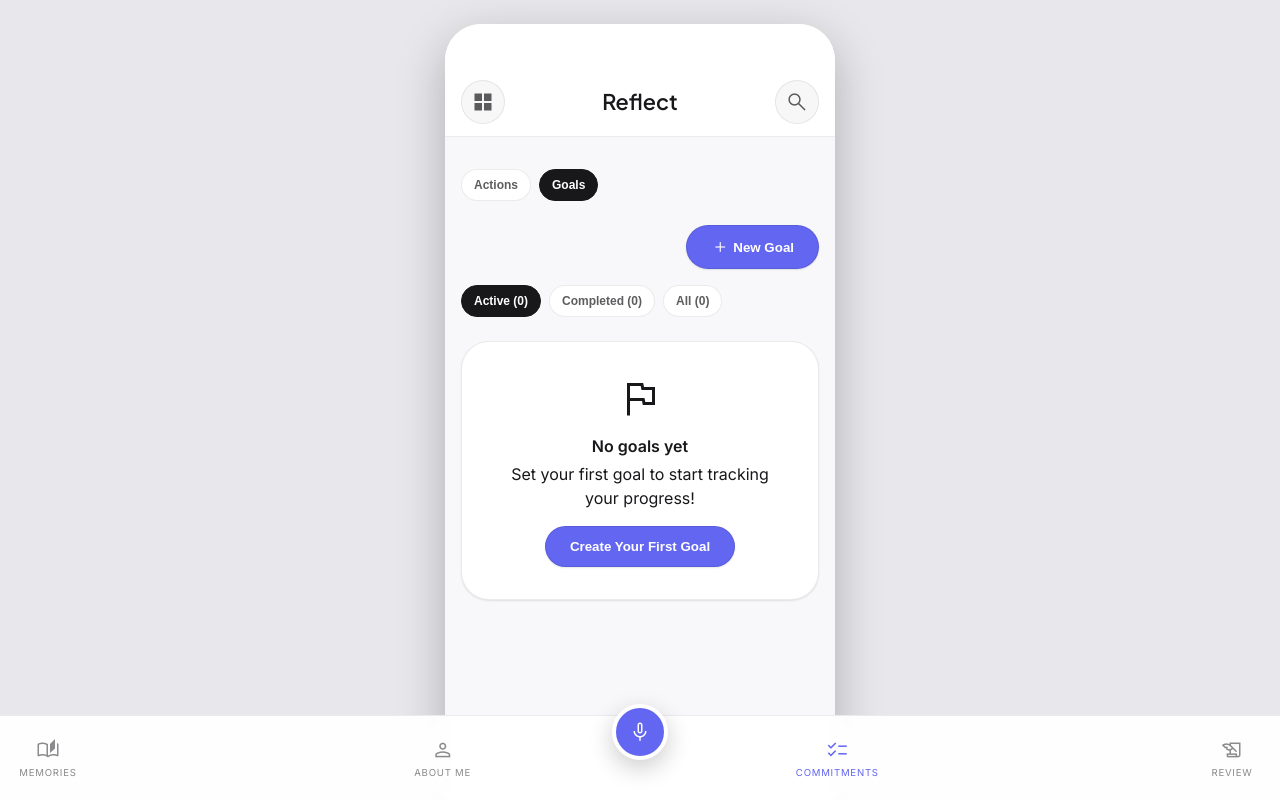
Test: Create Goal Modal › proceeds to milestones step
The width and height of the screenshot is (1280, 800).
Click the button "New Goal" at x=753, y=247, box [686,225,819,269]
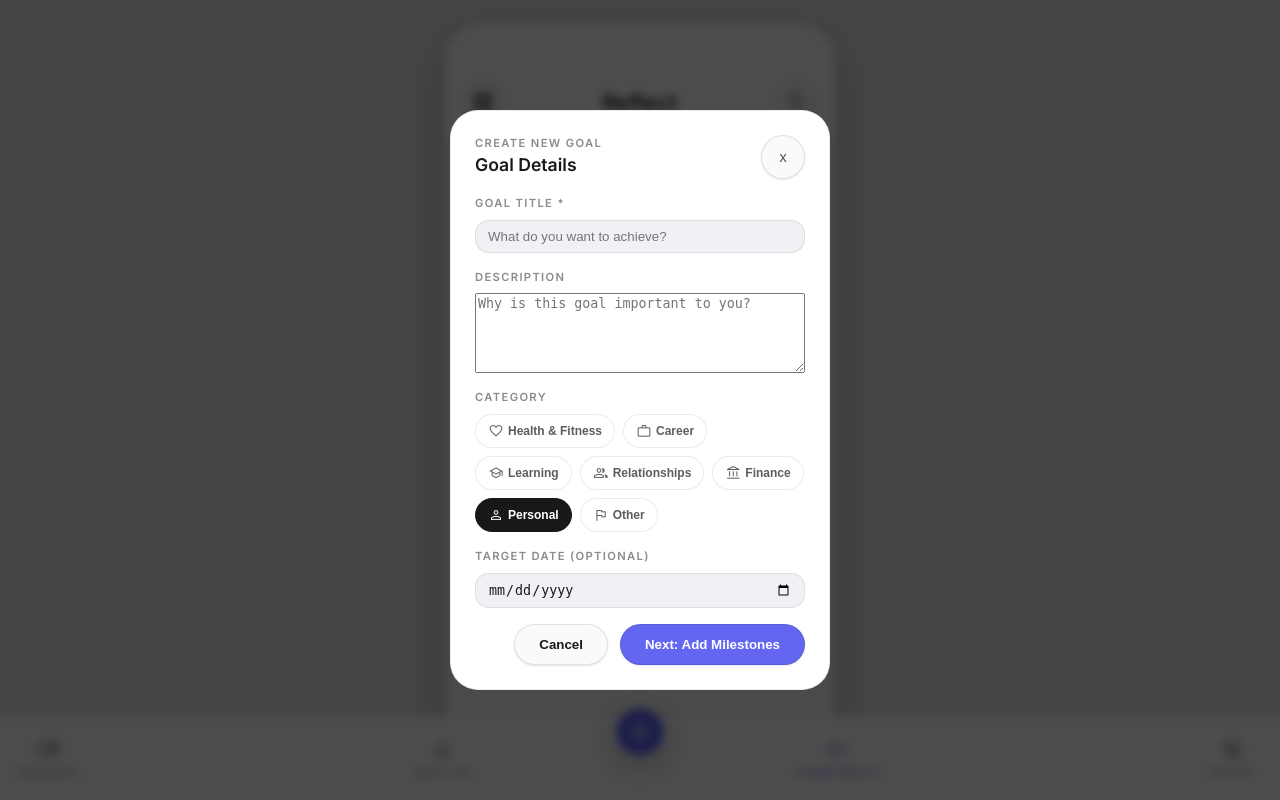
Type "My Goal" into the field labelled "Goal Title *" at x=640, y=236, box [475,220,805,252]
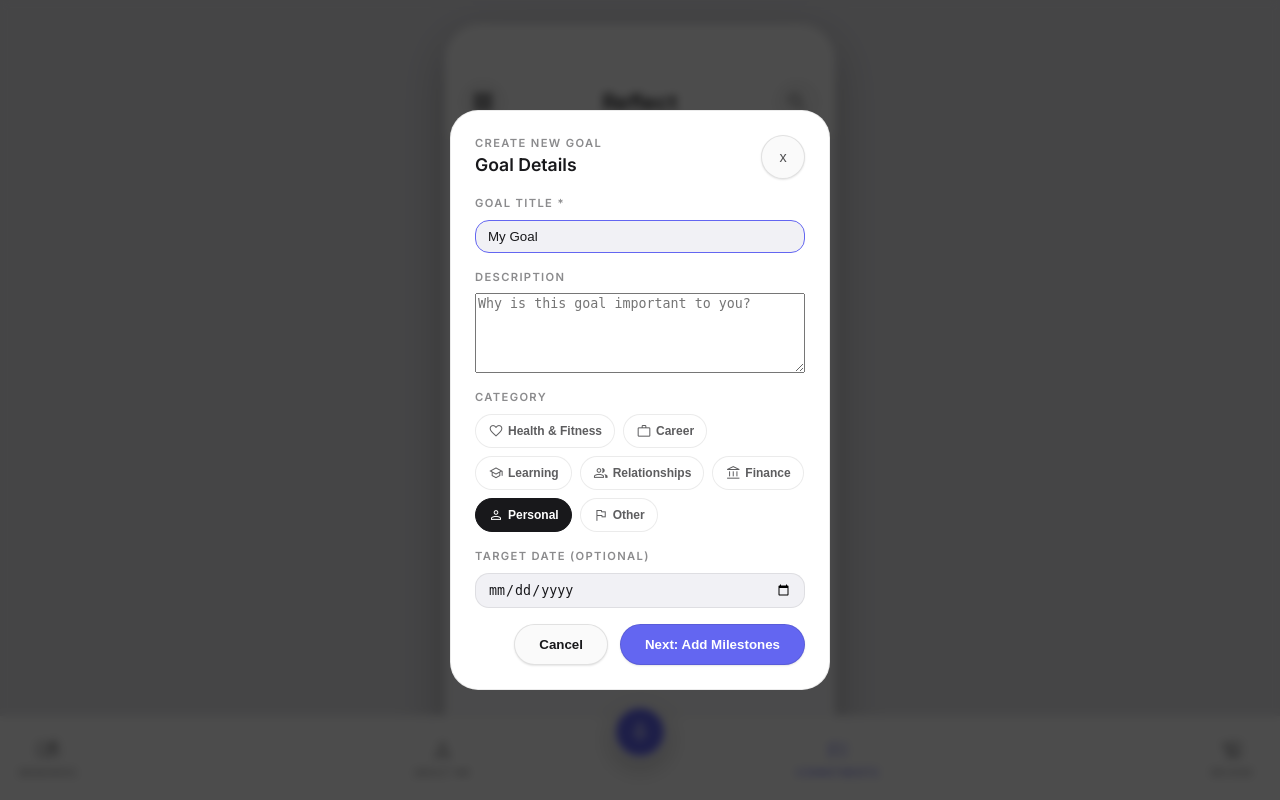
Click the button "Next: Add Milestones" at x=712, y=645, box [620,624,805,665]
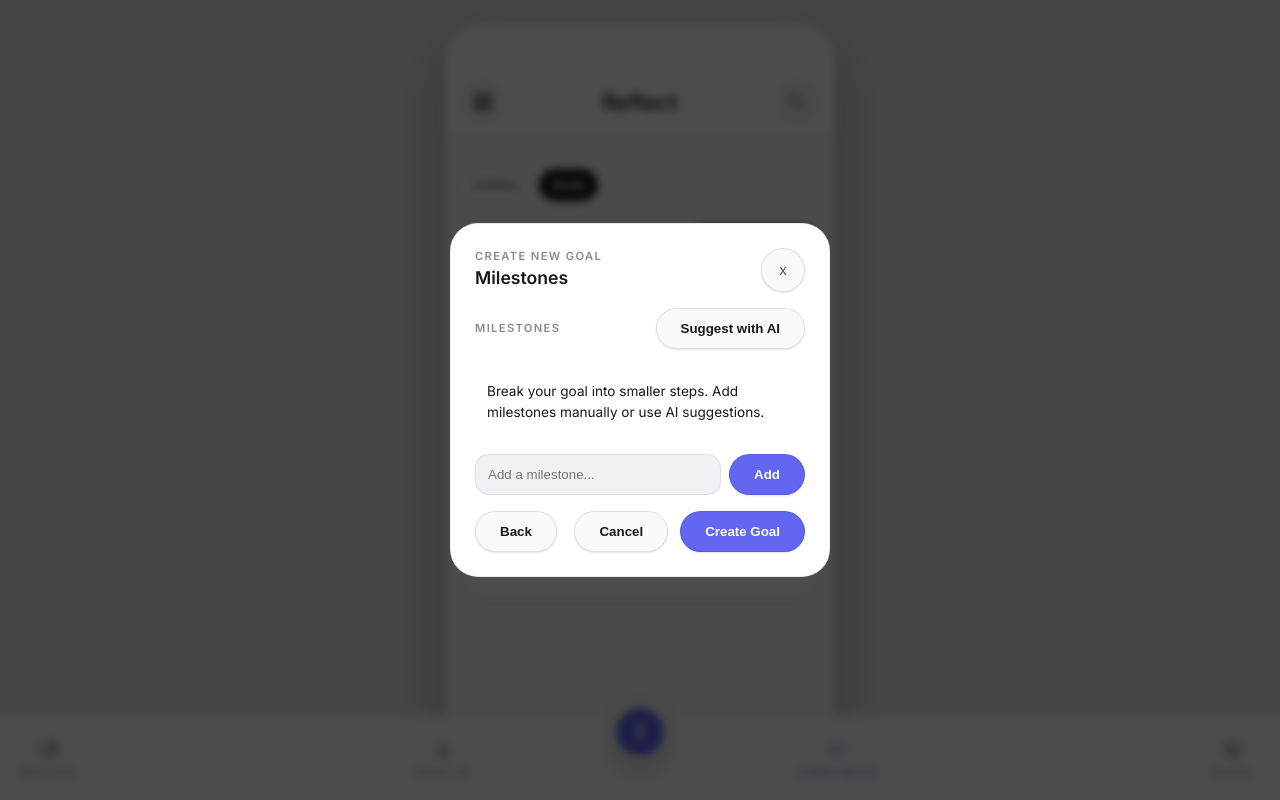
Check: the text "Milestones" below "Create New Goal" is shown, box [475,267,568,288]
Check: the field with placeholder "Add a milestone..." is shown, box [475,454,721,495]
Check: the button "Suggest with AI" is shown, box [656,308,805,349]
